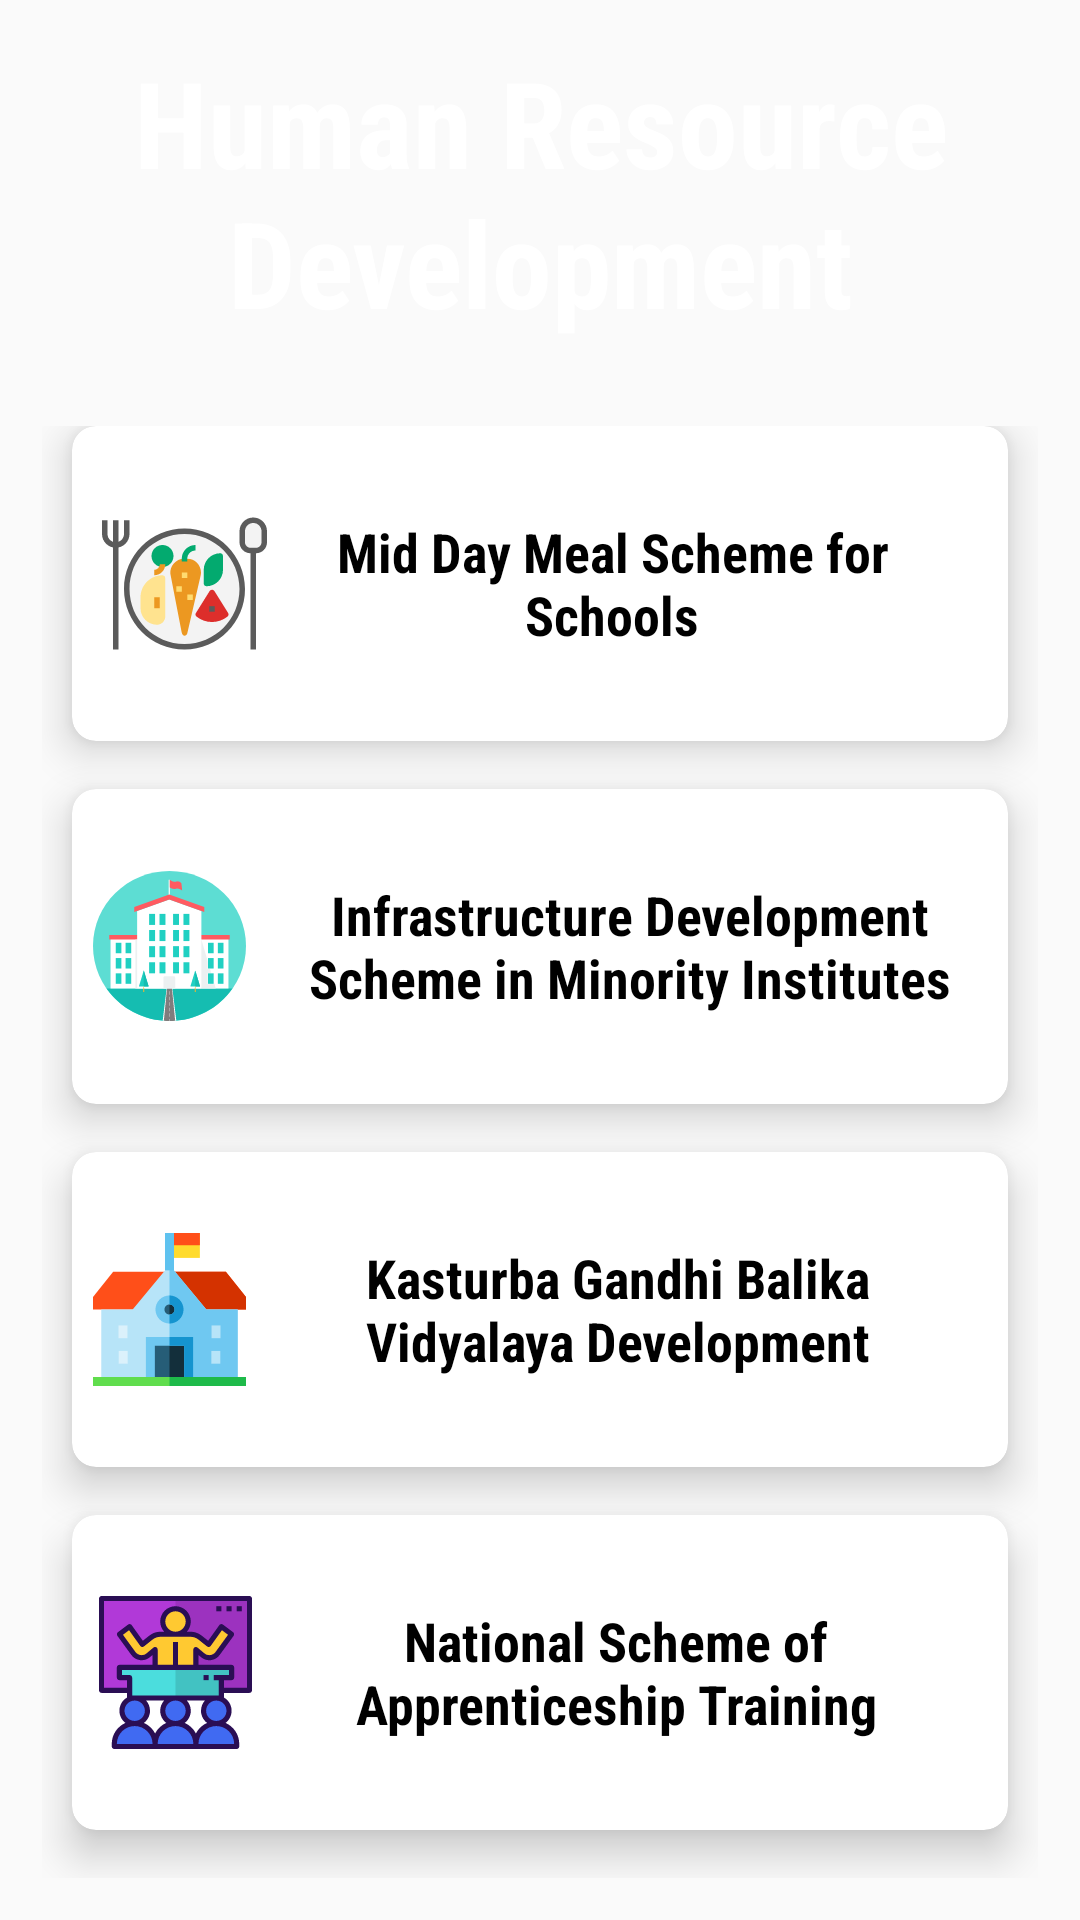

Where to tap for icons on this 1080px x 1920px app screen, as (x,y):
diet: (184,583)
presentationk: (175,1672)
schooldj: (169,1309)
schoolj: (169,946)
